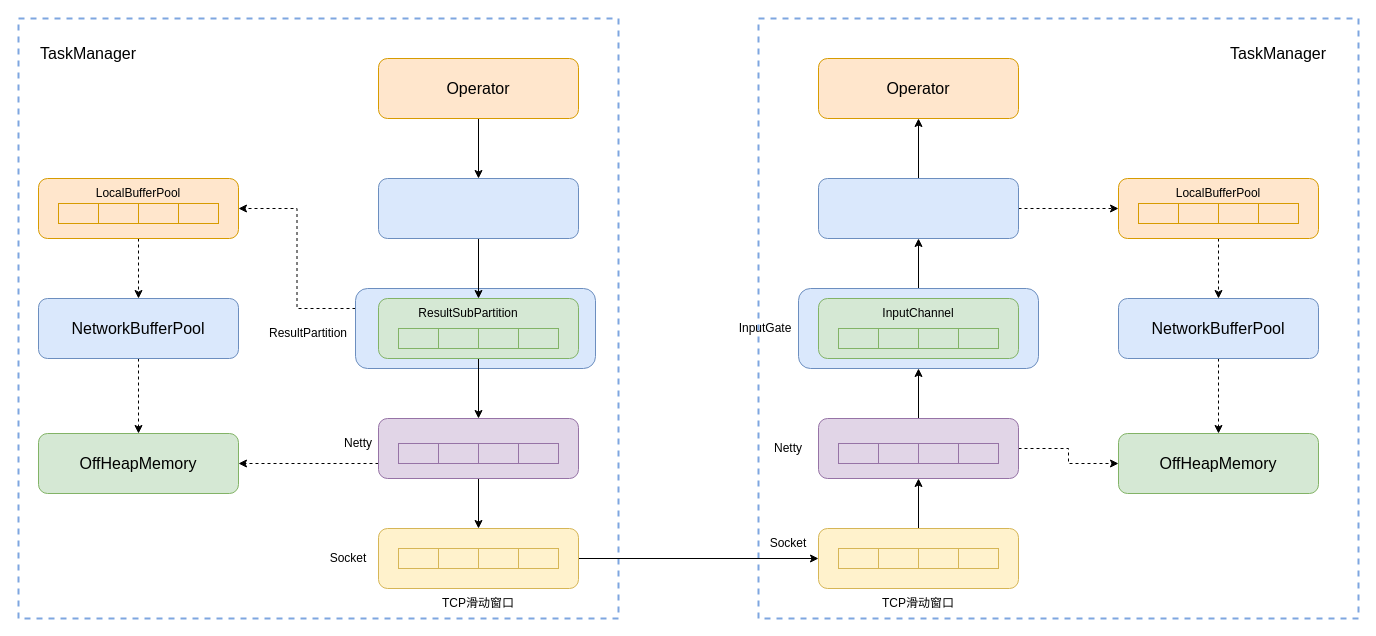
Image size: 1376x636. Some labels were removed from this diagram. Here are the shapes that lost their labels. From the top down, the box of each, then its label:
(378, 178, 578, 238): RecordWriter
(818, 178, 1018, 238): RecordReader
